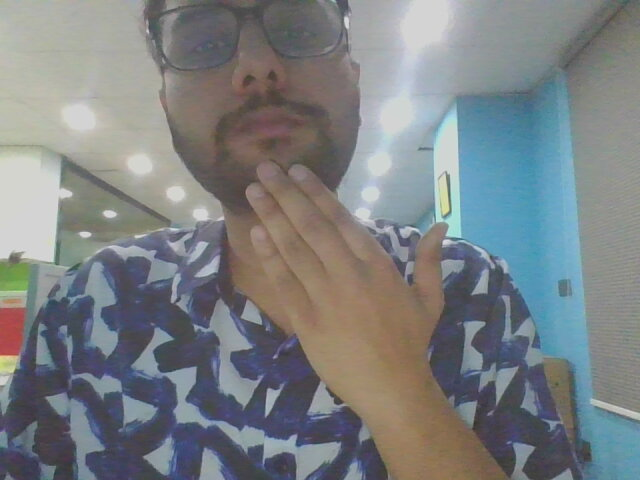thanks: (226, 157, 467, 423)
